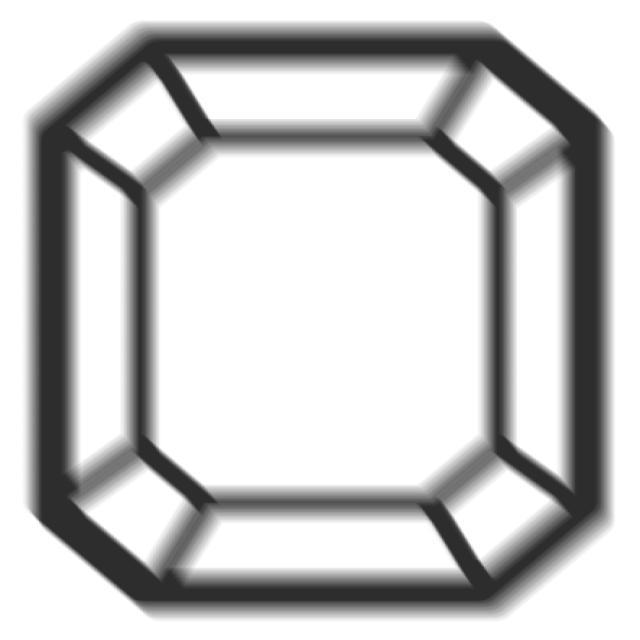emerald: (19, 17, 620, 626)
